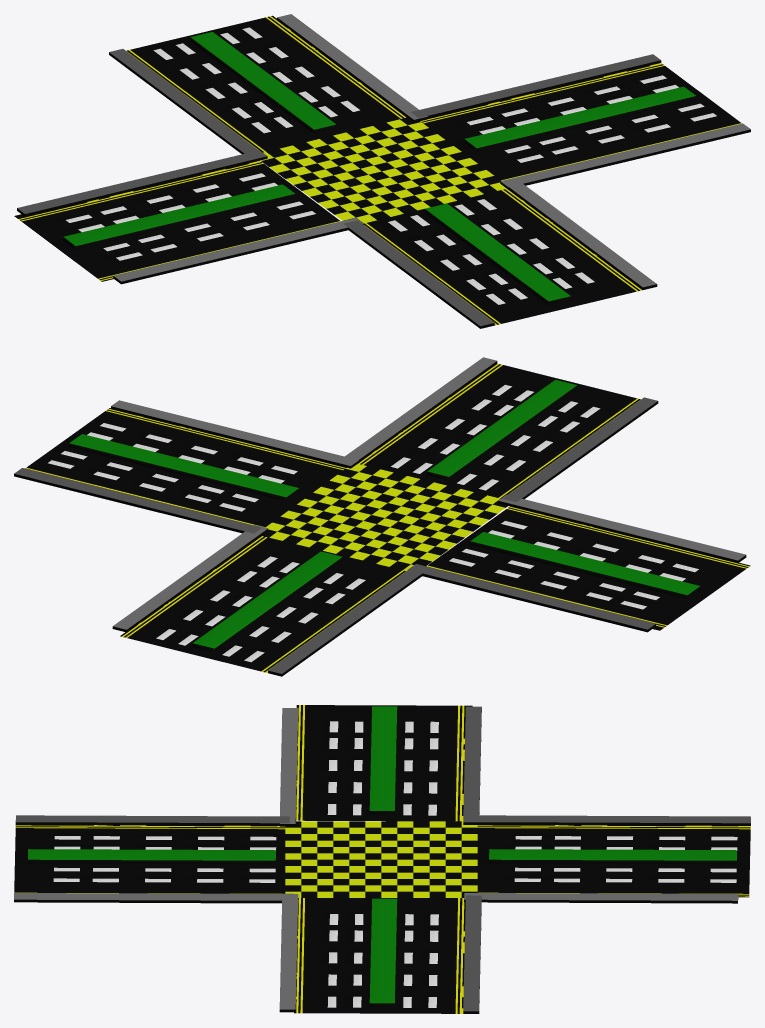
The model's file is road_intersection_1.fbx.
3 views of the same model, one above another, from view 1: azimuth 30°, elevation 25°; view 2: azimuth 150°, elevation 25°; view 3: azimuth 270°, elevation 25° (orthographic).
Parts seen in each view (by area): view 1: Plane.010, Plane.003, Plane.009, Plane.004, Plane, Plane.002, Plane.006, Plane.005, Plane.001, Plane.008, Plane.011, Plane.007 (+1 smaller); view 2: Plane.010, Plane.003, Plane.009, Plane.004, Plane, Plane.006, Plane.005, Plane.001, Plane.002, Plane.011, Plane.008, Plane.012 (+1 smaller); view 3: Plane.003, Plane.004, Plane.010, Plane.009, Plane, Plane.011, Plane.008, Plane.007, Plane.012, Plane.006, Plane.005, Plane.002 (+1 smaller).
Boxes of the visible parts, box(x1,y1,x2,y2) form: Plane.010: box(126, 15, 406, 152); Plane.003: box(14, 161, 340, 281); Plane.009: box(364, 188, 642, 325); Plane.004: box(420, 63, 741, 180); Plane: box(260, 117, 506, 223); Plane.002: box(17, 150, 267, 216); Plane.006: box(500, 123, 750, 189); Plane.005: box(411, 54, 661, 118); Plane.001: box(113, 218, 363, 284); Plane.008: box(344, 220, 494, 328); Plane.011: box(109, 49, 259, 154); Plane.007: box(509, 184, 657, 289); Plane.010: box(120, 536, 406, 672); Plane.003: box(426, 506, 750, 630); Plane.009: box(358, 363, 640, 498); Plane.004: box(25, 408, 346, 527); Plane: box(262, 464, 508, 570); Plane.006: box(111, 400, 359, 468); Plane.005: box(14, 468, 261, 533); Plane.001: box(498, 495, 746, 562); Plane.002: box(408, 564, 655, 632); Plane.011: box(268, 569, 423, 676); Plane.008: box(502, 397, 658, 502); Plane.012: box(112, 525, 268, 632); Plane.003: box(296, 705, 472, 821); Plane.004: box(294, 898, 465, 1013); Plane.010: box(477, 825, 750, 897); Plane.009: box(14, 825, 285, 893); Plane: box(285, 821, 477, 897); Plane.011: box(477, 815, 750, 825); Plane.008: box(15, 815, 289, 825); Plane.007: box(14, 893, 282, 903); Plane.012: box(464, 893, 738, 903); Plane.006: box(279, 893, 298, 1012); Plane.005: box(463, 895, 481, 1013); Plane.002: box(463, 706, 481, 824).
Bounding box in the file's own units: 9092 × 64.07 × 9166.
